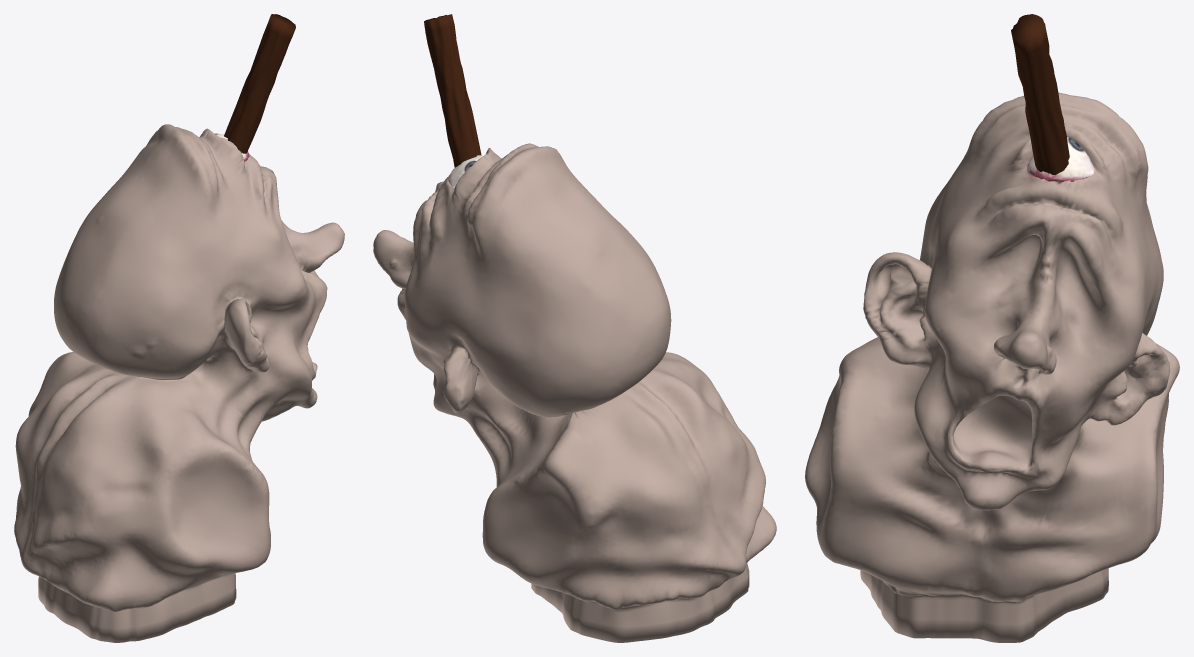
Rendered from PENIL_Alex_statueglb.glb.
The picture shows the model from 3 angles, left to right: view 1: azimuth 30°, elevation 25°; view 2: azimuth 150°, elevation 25°; view 3: azimuth 270°, elevation 25°; orthographic projection. The views are drawn at different scales.
Parts seen in each view (by area): view 1: Statue; view 2: Statue; view 3: Statue.
Boxes of the visible parts, x1=… form: Statue: x1=14, y1=14, x2=344, y2=642; Statue: x1=373, y1=14, x2=776, y2=642; Statue: x1=805, y1=14, x2=1179, y2=642.
Bounding box in the file's own units: 0.2094 × 0.3147 × 0.1584.
3 materials, 1 textured.
